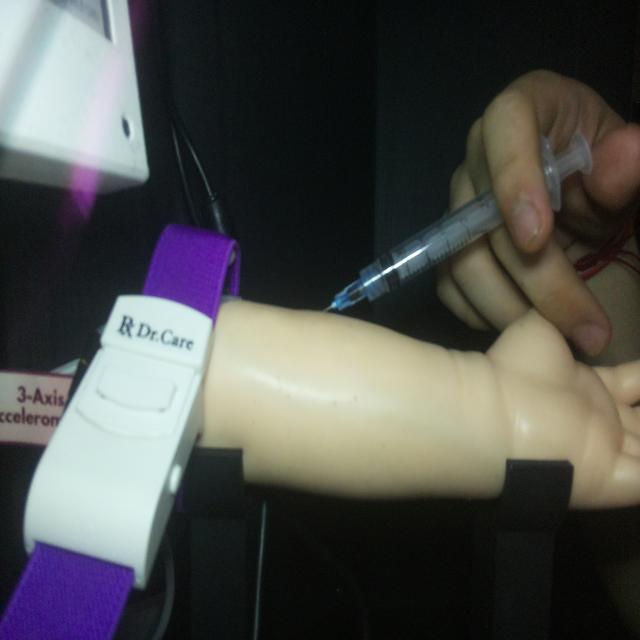24 degrees: (321, 127, 594, 316)
